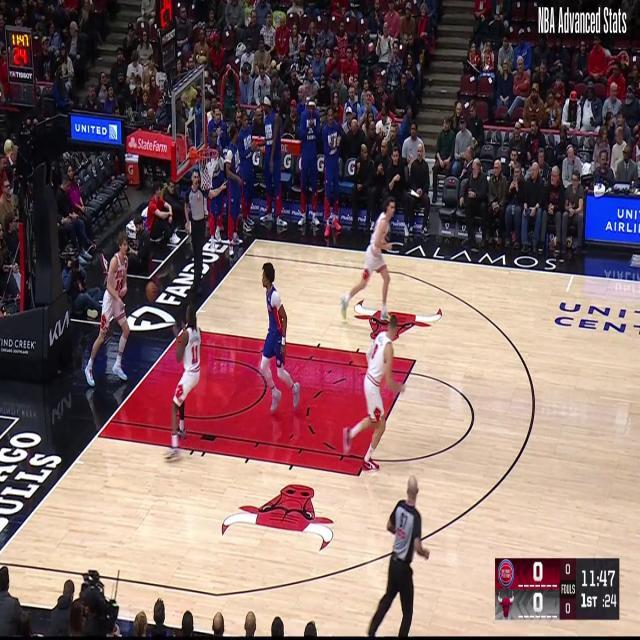ball: (141, 273, 162, 307)
player: (340, 310, 406, 474), (80, 236, 146, 394), (339, 192, 398, 324), (258, 259, 301, 416), (164, 301, 202, 464)
